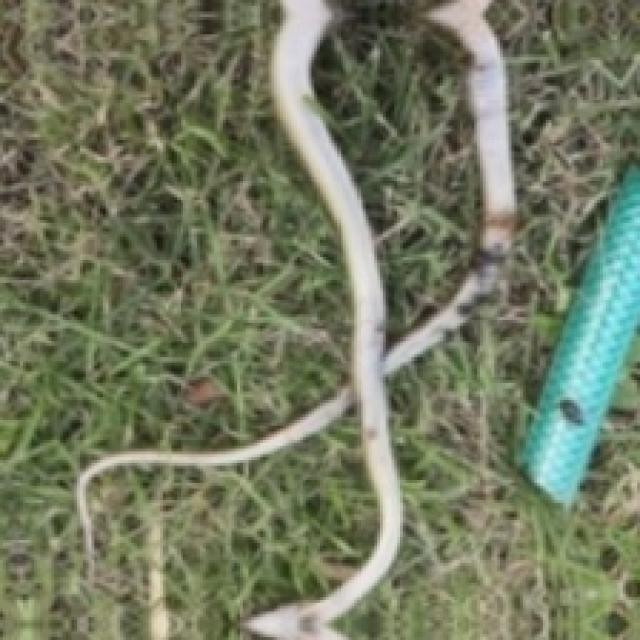reddish rat snake: (77, 0, 514, 637), (523, 166, 637, 500)
